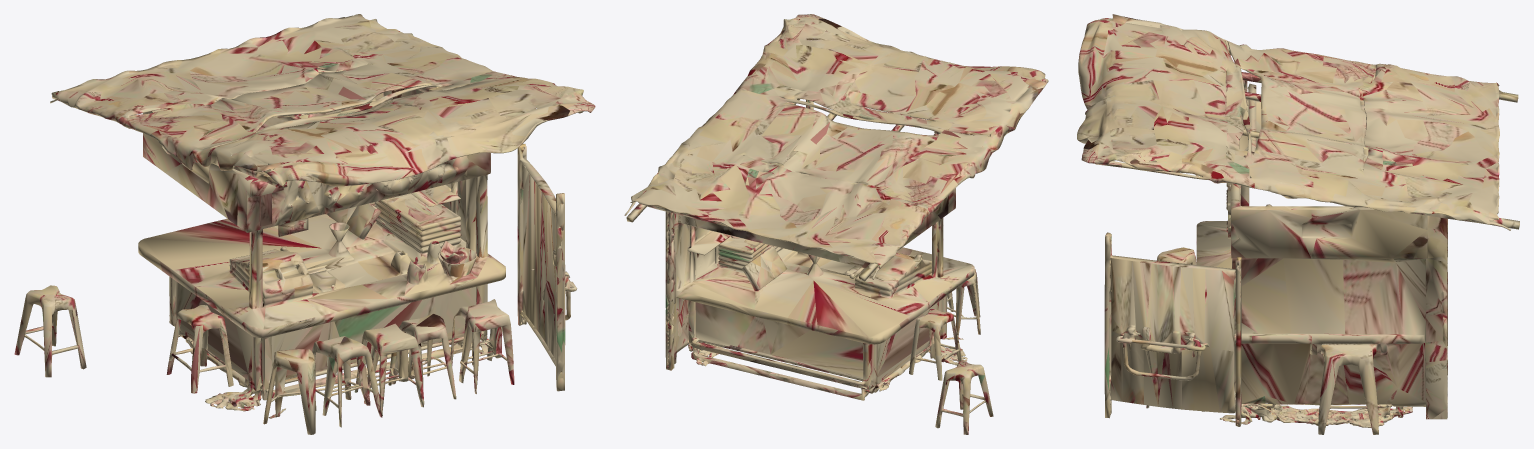
File: tacosMar.fbx
3 renders of one model, left to right at view 1: azimuth 30°, elevation 25°; view 2: azimuth 150°, elevation 25°; view 3: azimuth 270°, elevation 25°, orthographic. The views are drawn at different scales.
Visible parts, largest first — view 1: Mesh_0.005, Mesh_0, Mesh_0.003, Mesh_0.001, Mesh_0.004, Mesh_0.002; view 2: Mesh_0.005, Mesh_0, Mesh_0.004, Mesh_0.002, Mesh_0.003; view 3: Mesh_0.005, Mesh_0, Mesh_0.001, Mesh_0.003.
Boxes of the visible parts, <box> form: Mesh_0.005: <box>25,14,595,335</box>; Mesh_0: <box>131,63,562,407</box>; Mesh_0.003: <box>199,284,532,434</box>; Mesh_0.001: <box>517,144,577,391</box>; Mesh_0.004: <box>71,276,413,411</box>; Mesh_0.002: <box>14,285,86,377</box>; Mesh_0.005: <box>624,14,1048,366</box>; Mesh_0: <box>633,30,1029,390</box>; Mesh_0.004: <box>665,285,973,400</box>; Mesh_0.002: <box>935,360,993,434</box>; Mesh_0.003: <box>671,268,980,388</box>; Mesh_0.005: <box>1077,14,1519,416</box>; Mesh_0: <box>1105,25,1499,434</box>; Mesh_0.001: <box>1104,232,1241,426</box>; Mesh_0.003: <box>1109,247,1403,426</box>.
Size of the model in its own units: 190 by 133 by 190.
